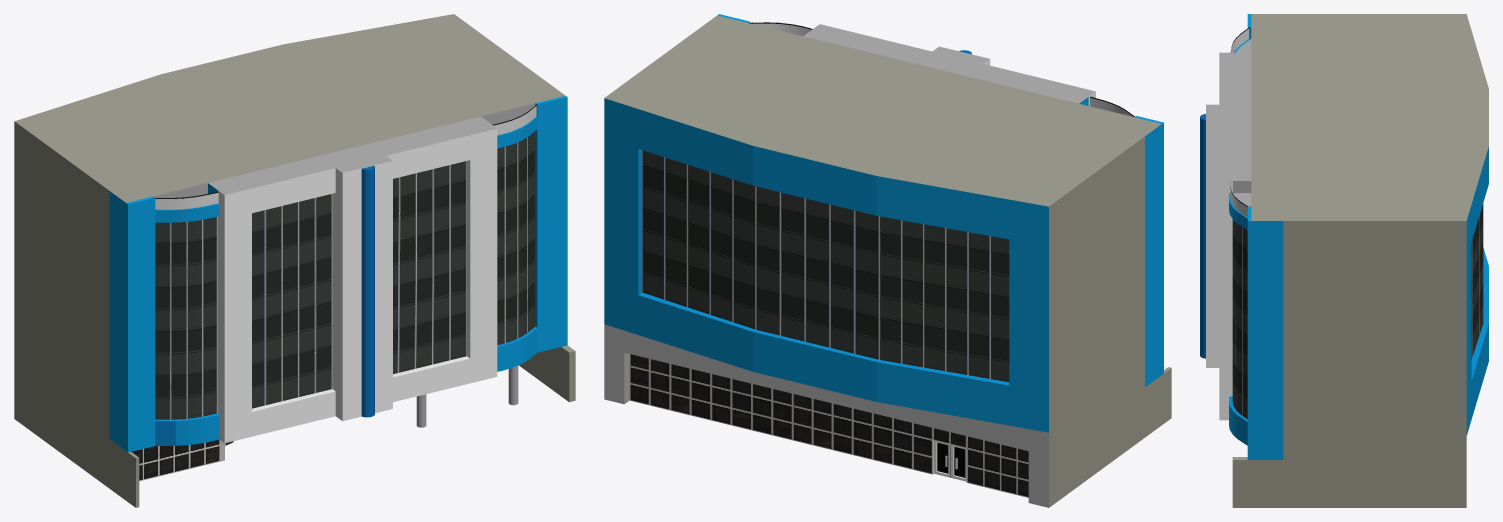
3 views of the same model, side by side, from view 1: azimuth 30°, elevation 25°; view 2: azimuth 150°, elevation 25°; view 3: azimuth 270°, elevation 25° (orthographic). The views are drawn at different scales.
Parts seen in each view (by area): view 1: BB-050; view 2: BB-050; view 3: BB-050.
Boxes of the visible parts, x1,y1,x2,y2 form: BB-050: (14,14,575,507); BB-050: (604,14,1171,507); BB-050: (1200,14,1488,507).
Size of what is drawn, in the model's own units: 37.07 by 24 by 21.88.
